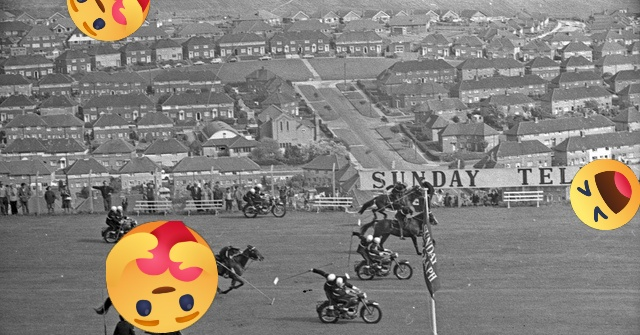care: (106, 221, 218, 333), (67, 0, 150, 41)
haha: (570, 159, 640, 230)
